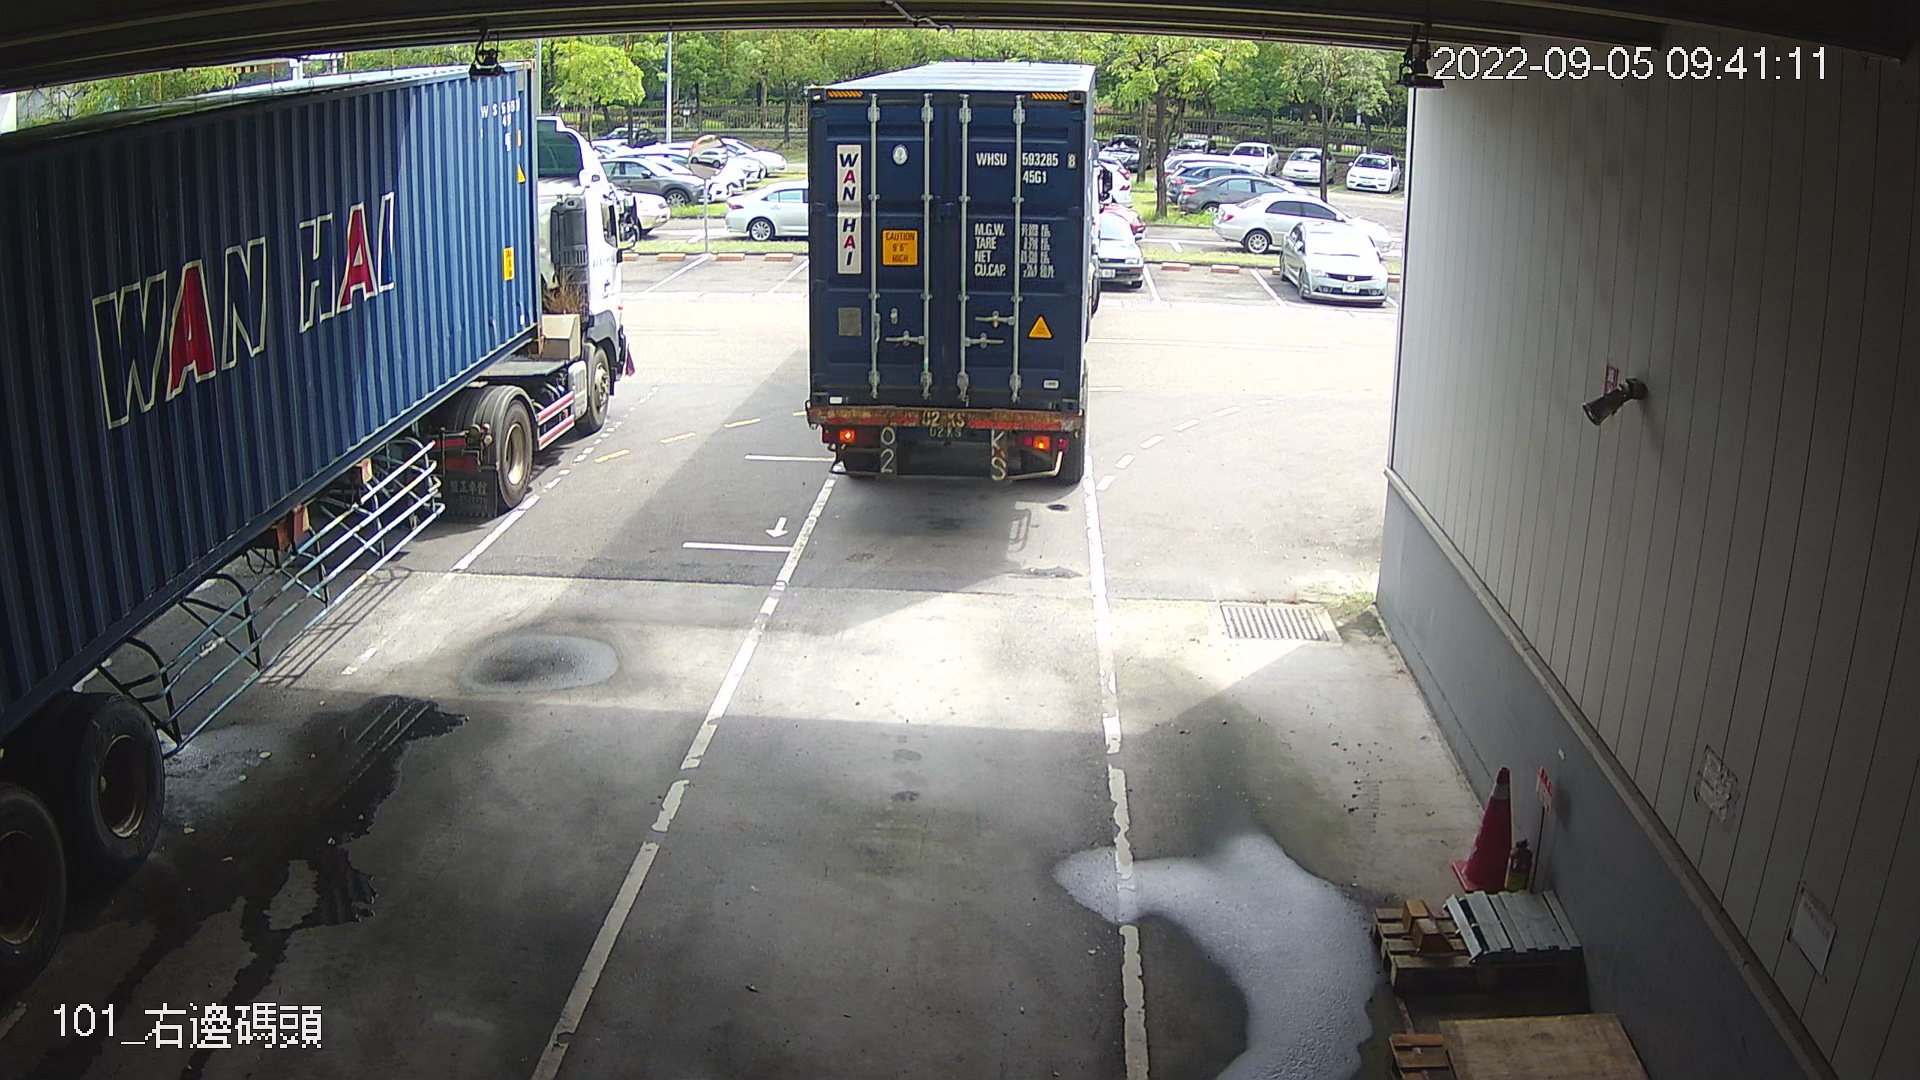container: (971, 145, 1077, 193)
